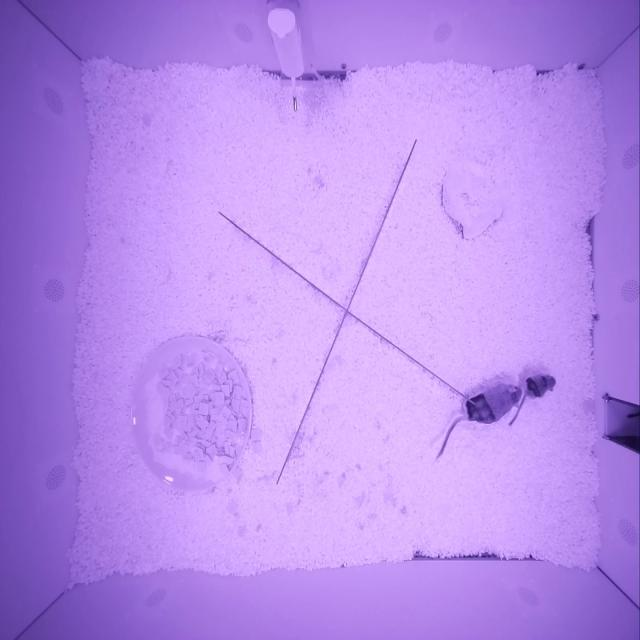adult_back: (463, 381, 522, 425)
pup_h_stripe: (524, 373, 556, 399)
